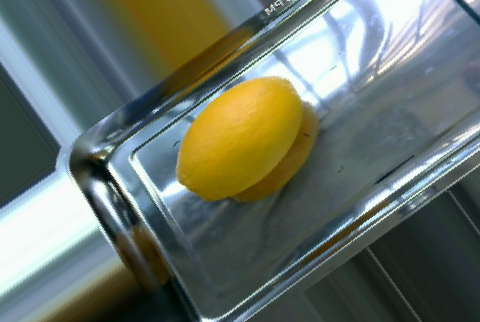Orange: (176, 74, 302, 199)
